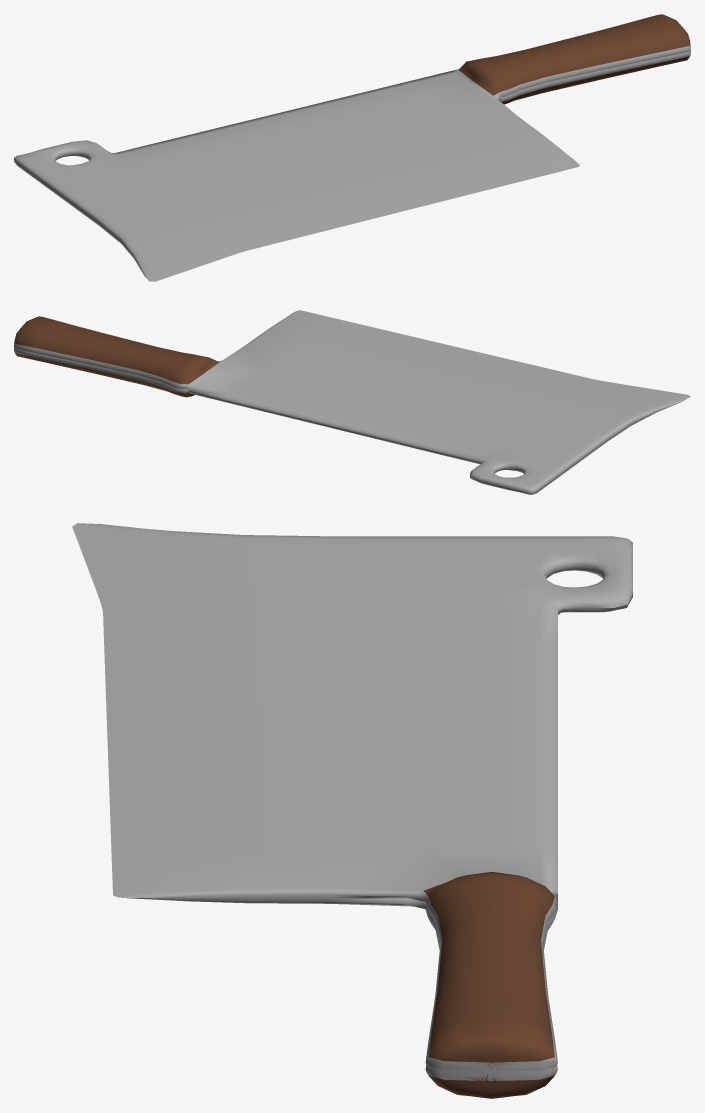
Rendered from meat-chopper.glb.
The picture shows the model from 3 angles, top to bottom: view 1: azimuth 30°, elevation 25°; view 2: azimuth 150°, elevation 25°; view 3: azimuth 270°, elevation 25°; orthographic projection. The views are drawn at different scales.
Parts seen in each view (by area): view 1: meat-chopper; view 2: meat-chopper; view 3: meat-chopper.
Part boxes in pixels (x1,y1,x2,y2): meat-chopper: (14,14,690,281); meat-chopper: (14,310,690,494); meat-chopper: (72,523,632,1098).
Bounding box in the file's own units: 0.3538 × 0.0189 × 0.1528.
